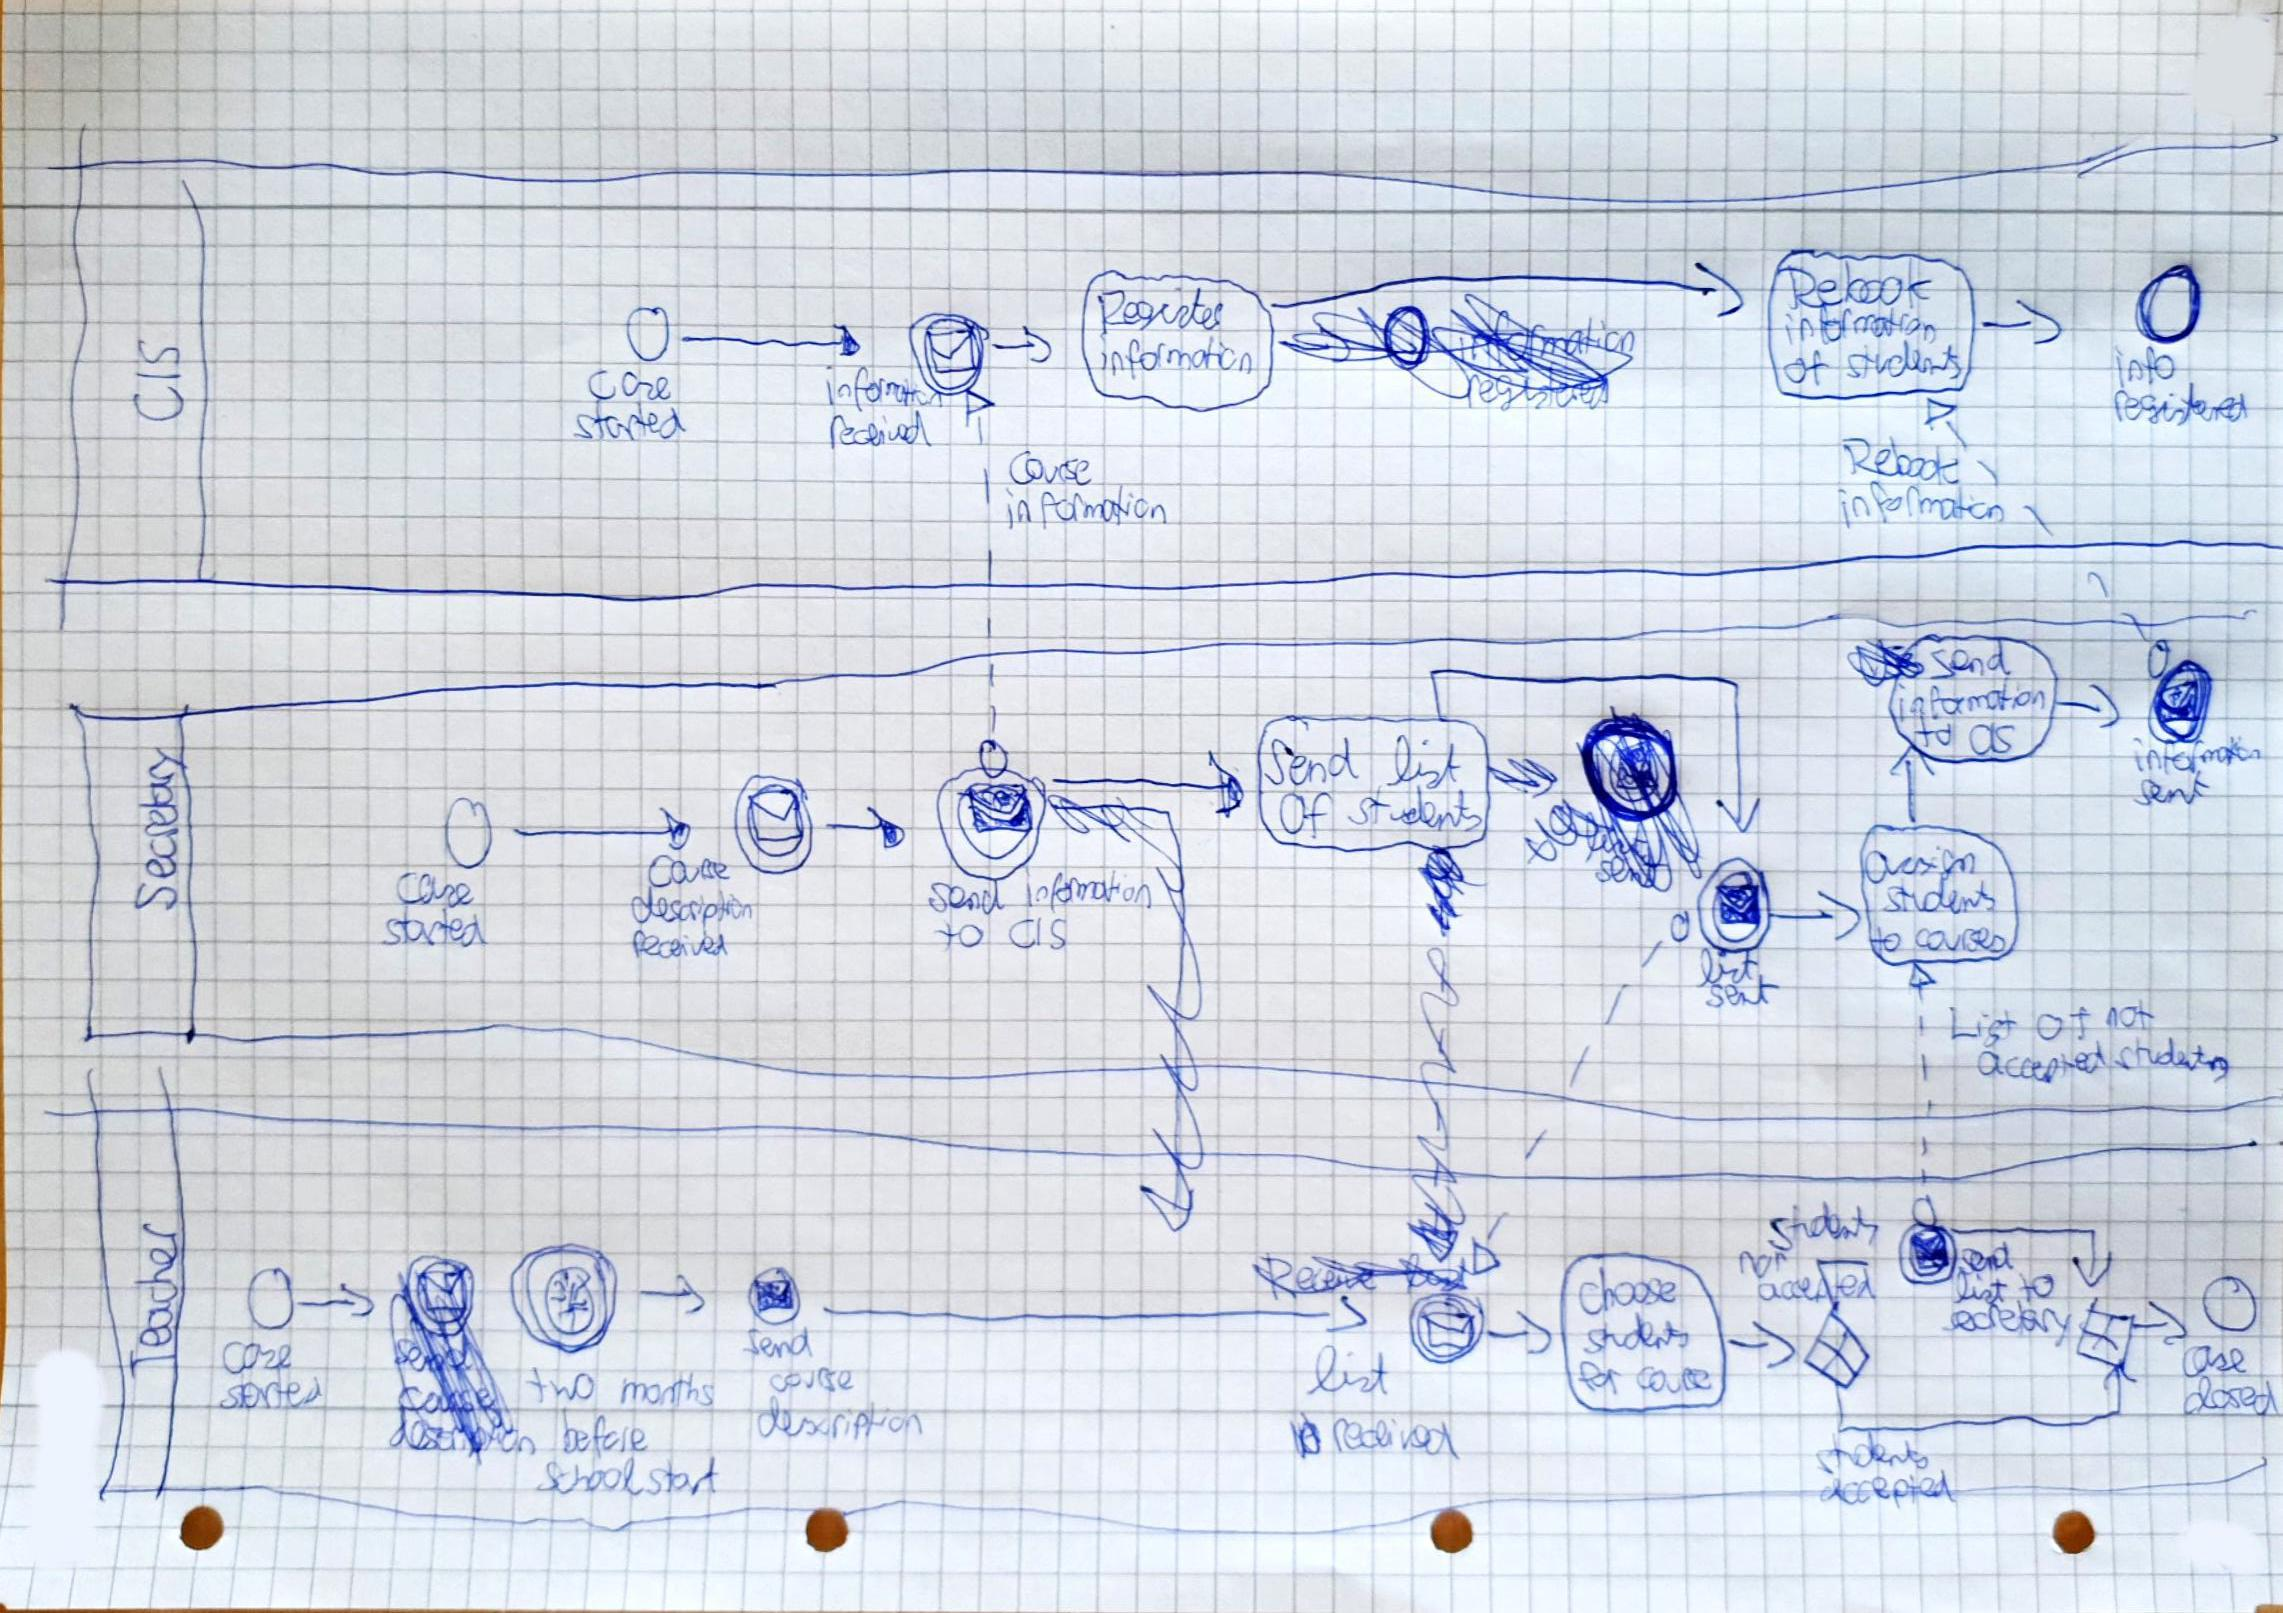CIS: (133, 340, 188, 423), (1007, 914, 1070, 954), (1967, 721, 2015, 755)
Case: (396, 868, 474, 909), (586, 367, 672, 405)
Course: (1011, 452, 1093, 490)
List: (1945, 1006, 2019, 1045)
Rebook: (1780, 264, 1932, 311), (1843, 436, 1963, 484)
Received: (627, 928, 731, 962)
Register: (1098, 289, 1225, 336)
Send: (1265, 736, 1365, 789)
accepted: (1975, 1043, 2106, 1091), (1819, 1470, 1955, 1507), (1758, 1270, 1878, 1300)
assign: (1864, 840, 1977, 883)
before: (557, 1409, 652, 1459)
case: (221, 1340, 295, 1376), (2181, 1341, 2247, 1374)
choose: (1576, 1269, 1679, 1315)
closed: (2182, 1378, 2282, 1415)
course: (648, 850, 735, 892), (769, 1365, 857, 1397), (1632, 1363, 1712, 1397)
courses: (1911, 927, 2012, 955)
description: (756, 1396, 925, 1443), (630, 886, 755, 930)
eacher: (128, 1226, 178, 1350)
for: (1577, 1362, 1626, 1397)
information: (1831, 485, 2011, 530), (1000, 487, 1172, 529), (1092, 339, 1259, 379), (821, 361, 943, 415), (1896, 677, 2050, 720), (1019, 866, 1159, 907), (1783, 305, 1943, 341), (2129, 739, 2264, 773)
into: (2112, 345, 2174, 389)
list: (1306, 1345, 1390, 1402), (1386, 732, 1465, 792), (1692, 948, 1762, 987), (1955, 1271, 2005, 1306)
months: (621, 1367, 715, 1409)
not: (2100, 1001, 2159, 1038), (1739, 1248, 1791, 1280)
of: (1277, 790, 1336, 843), (2036, 1002, 2095, 1040), (1786, 348, 1835, 390)
received: (1326, 1414, 1458, 1459), (826, 411, 934, 453)
registered: (2113, 383, 2247, 428)
school: (539, 1455, 643, 1497)
secretary: (131, 743, 184, 909), (1944, 1305, 2070, 1337)
send: (1928, 641, 2011, 680), (927, 877, 1002, 916), (743, 1330, 816, 1361), (1960, 1240, 2016, 1270)
sent: (2134, 774, 2212, 811), (1708, 979, 1778, 1012)
start: (645, 1455, 723, 1497)
started: (573, 404, 687, 444), (381, 910, 484, 950), (220, 1374, 330, 1410)
students: (1349, 788, 1481, 835), (1761, 1201, 1877, 1253), (2114, 1036, 2235, 1082), (1812, 1431, 1928, 1476), (1842, 341, 1962, 383), (1584, 1313, 1693, 1357), (1883, 883, 1995, 918)
to: (936, 917, 992, 956), (2018, 1270, 2059, 1304), (1914, 720, 1958, 751), (1870, 927, 1906, 961)
two: (526, 1366, 600, 1409)
